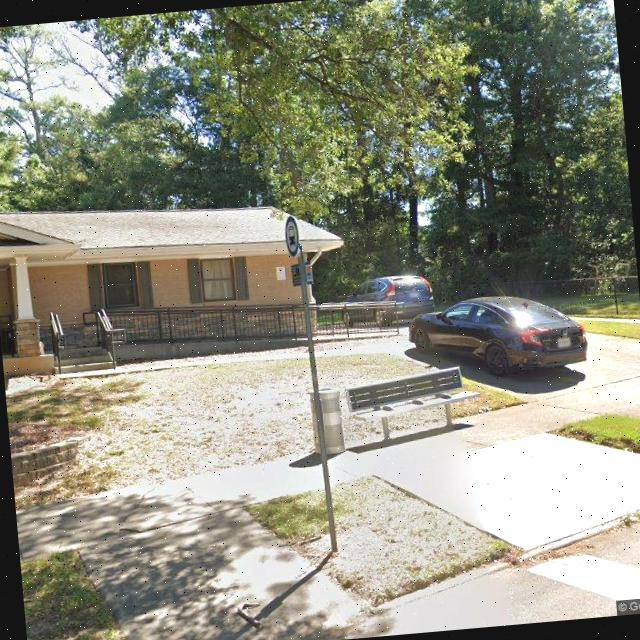seating: (343, 366, 484, 446)
trash_can: (308, 386, 346, 457)
